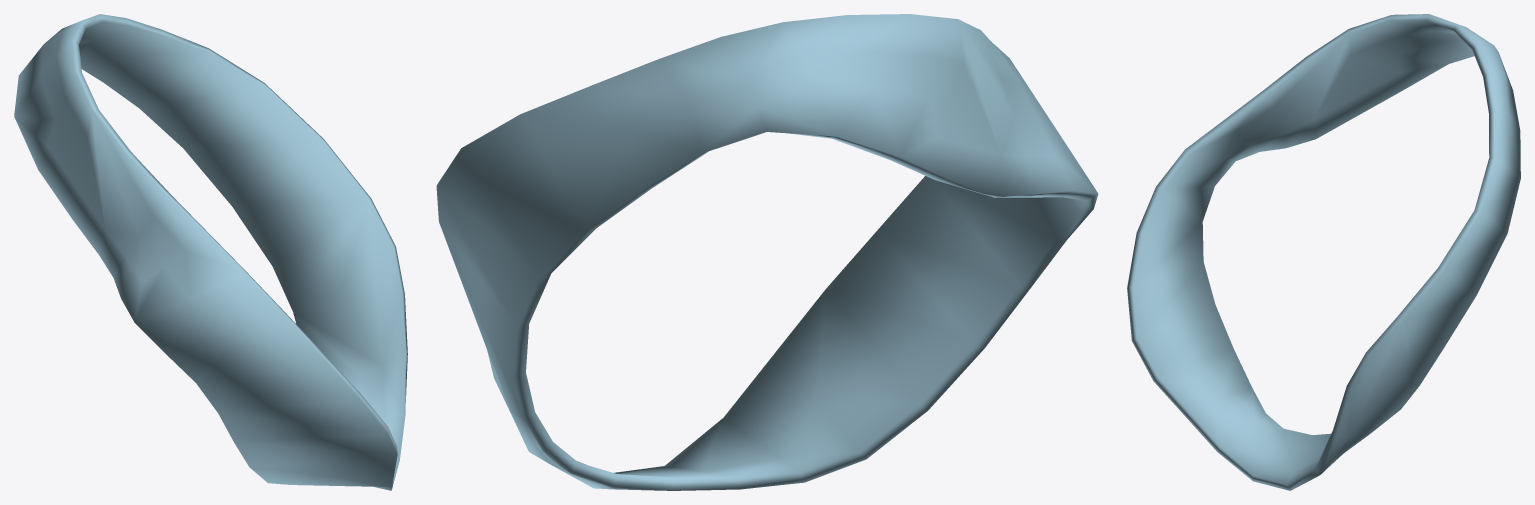
Rendered from articulacoes-articular-capsule-of-superior-tibiofibular-joint-r.glb.
The picture shows the model from 3 angles, left to right: view 1: azimuth 30°, elevation 25°; view 2: azimuth 150°, elevation 25°; view 3: azimuth 270°, elevation 25°; orthographic projection. The views are drawn at different scales.
Visible parts, largest first — view 1: Articular capsule of superior tibiofibular joint.r; view 2: Articular capsule of superior tibiofibular joint.r; view 3: Articular capsule of superior tibiofibular joint.r.
Boxes of the visible parts, bbox=[...] form: Articular capsule of superior tibiofibular joint.r: bbox=[14, 14, 407, 490]; Articular capsule of superior tibiofibular joint.r: bbox=[436, 14, 1098, 490]; Articular capsule of superior tibiofibular joint.r: bbox=[1127, 14, 1520, 490].
Size of the model in its own units: 0.0224 by 0.027 by 0.0257.
